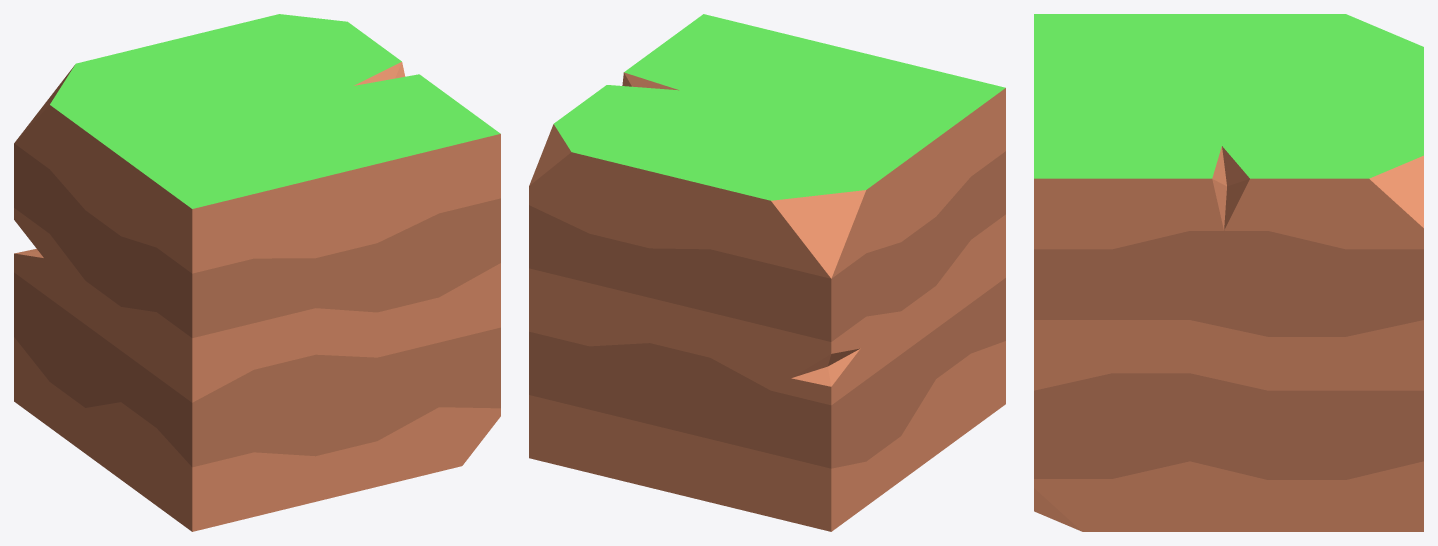
The model's file is Stone002.fbx.
3 renders of one model, left to right at view 1: azimuth 30°, elevation 25°; view 2: azimuth 150°, elevation 25°; view 3: azimuth 270°, elevation 25°, orthographic. The views are drawn at different scales.
Visible parts, largest first — view 1: Stone002; view 2: Stone002; view 3: Stone002.
Part boxes in pixels (<box>): Stone002: <box>14,14,500,531</box>; Stone002: <box>529,14,1005,531</box>; Stone002: <box>1034,14,1423,531</box>.
Bounding box in the file's own units: 156 × 156 × 156.
